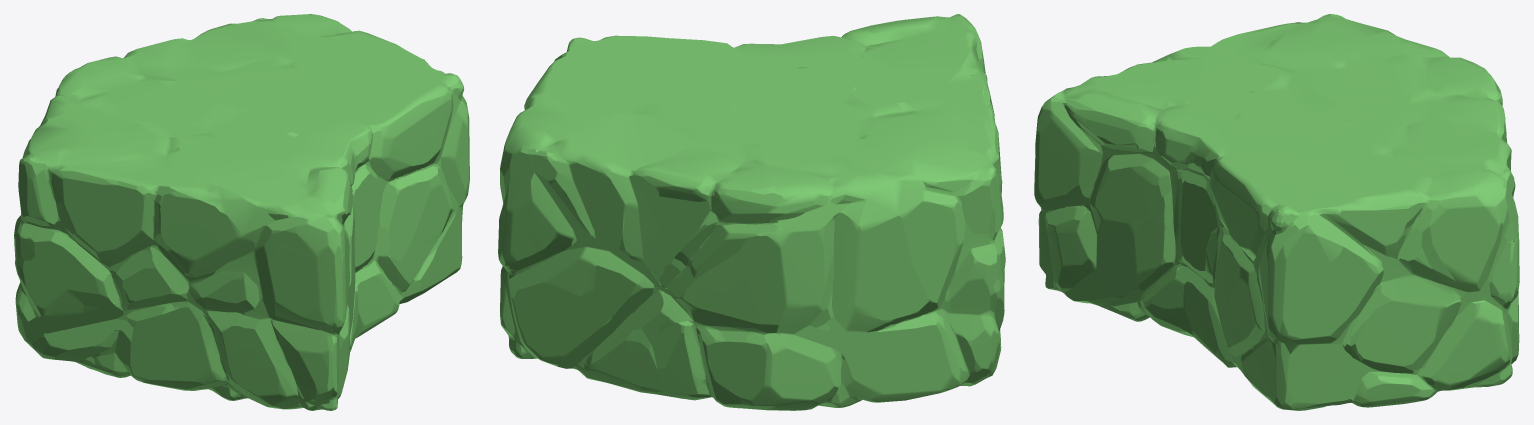
3 views of the same model, side by side, from view 1: azimuth 30°, elevation 25°; view 2: azimuth 150°, elevation 25°; view 3: azimuth 270°, elevation 25° (orthographic). The views are drawn at different scales.
Visible parts, largest first — view 1: Mesh_32_LOD0; view 2: Mesh_32_LOD0; view 3: Mesh_32_LOD0.
Part boxes in pixels (bbox=[...]): Mesh_32_LOD0: bbox=[14, 14, 469, 410]; Mesh_32_LOD0: bbox=[498, 14, 1005, 410]; Mesh_32_LOD0: bbox=[1034, 14, 1519, 410].
Size of what is drawn, in the model's own units: 4489 by 2127 by 4373.
